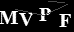F: (58, 13, 71, 28)
M: (1, 10, 18, 25)
P: (38, 7, 52, 22)
V: (17, 12, 34, 26)
